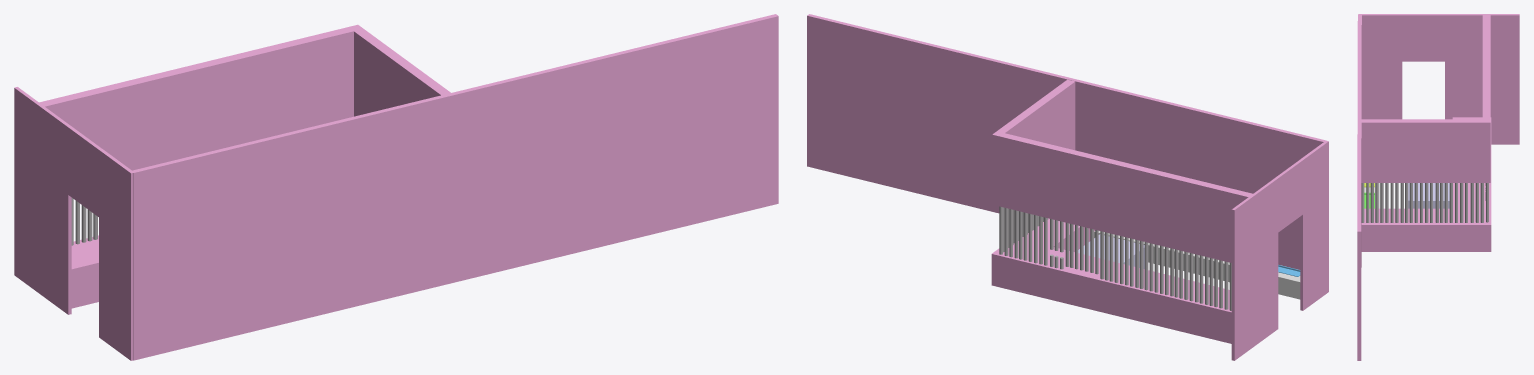
File: Meal_testerArea.dae
3 renders of one model, left to right at view 1: azimuth 30°, elevation 25°; view 2: azimuth 150°, elevation 25°; view 3: azimuth 270°, elevation 25°, orthographic. The views are drawn at different scales.
Parts seen in each view (by area): view 1: wall1, Cube.002, wall2.001, counter, Cylinder.009; view 2: wall1, Cube.002, wall2.001, Cylinder.009, counter, counter.002, kit, counter.001, Cylinder.004; view 3: wall2.001, Cube.002, counter.002, Cylinder.004, wall1, counter, counter.001, kit.
Boxes of the visible parts, x1,y1,x2,y2 form: wall1: (131,14,778,360); Cube.002: (39,24,450,170); wall2.001: (14,87,134,360); counter: (71,235,98,308); Cylinder.009: (71,198,97,245); wall1: (807,14,1326,269); Cube.002: (992,79,1252,262); wall2.001: (1231,140,1328,360); Cylinder.009: (999,206,1231,310); counter: (1030,247,1231,343); counter.002: (991,218,1095,294); kit: (1094,231,1300,299); counter.001: (1078,234,1144,268); Cylinder.004: (1003,207,1048,252); wall2.001: (1358,14,1519,144); Cube.002: (1361,15,1490,182); counter.002: (1361,208,1491,251); Cylinder.004: (1361,183,1483,222); wall1: (1357,15,1361,360); counter: (1452,117,1491,208); counter.001: (1408,183,1449,208); kit: (1364,183,1380,208).
Bounding box in the file's own units: 11.21 × 3.54 × 3.11.
